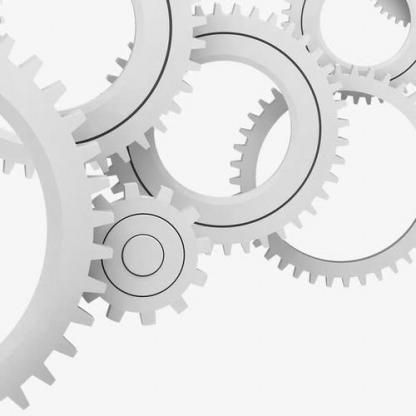FOD: (225, 57, 415, 292), (78, 178, 216, 325)
